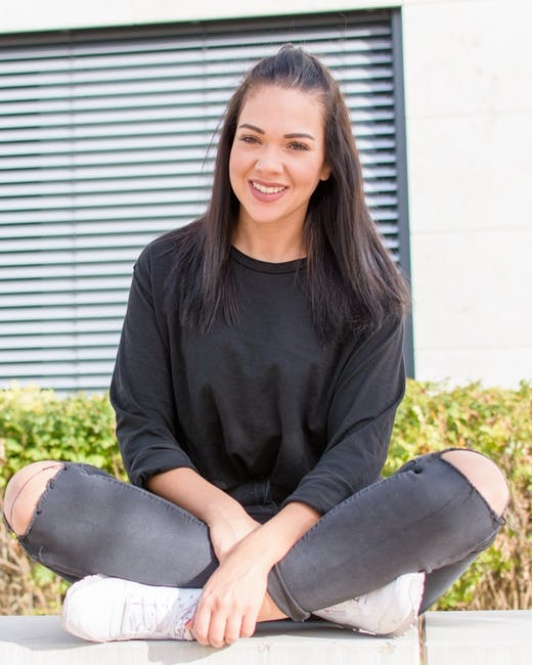face: (229, 87, 325, 223)
